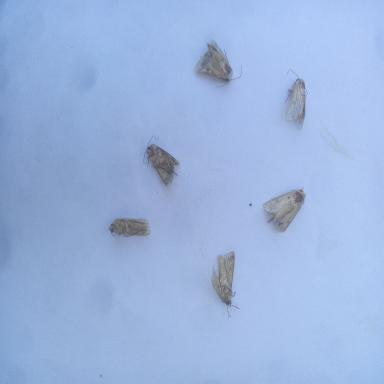abw: (190, 36, 245, 92), (207, 242, 245, 321), (259, 183, 311, 238), (138, 128, 183, 190), (279, 65, 313, 126), (104, 214, 155, 242)
